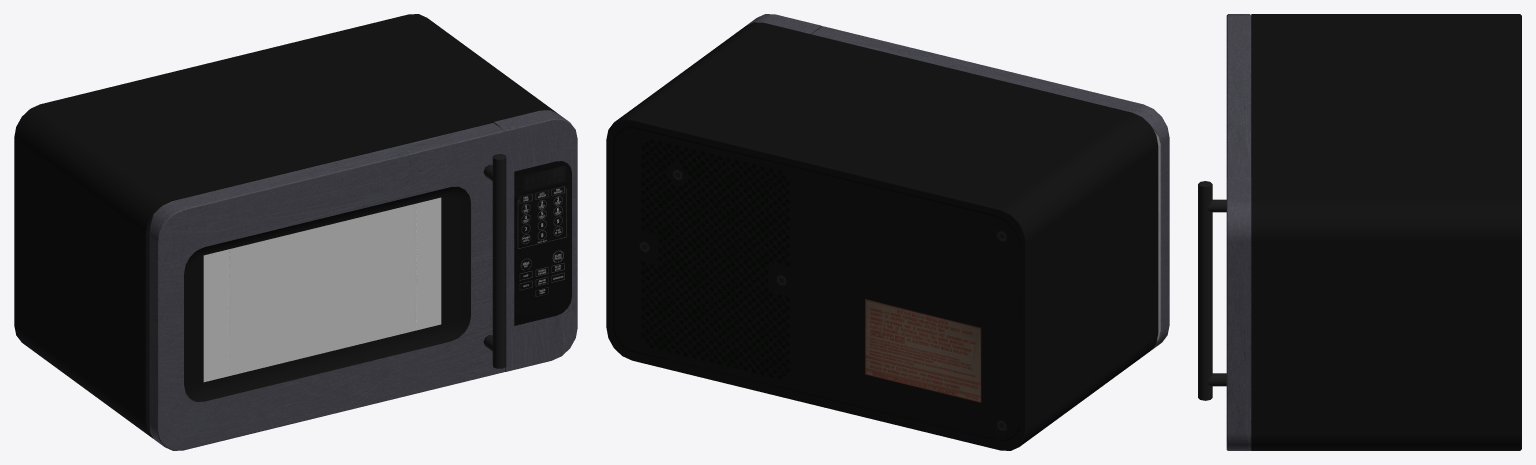
Rendered from microwave_oven.dae.
3 renders of one model, left to right at view 1: azimuth 30°, elevation 25°; view 2: azimuth 150°, elevation 25°; view 3: azimuth 270°, elevation 25°, orthographic. The views are drawn at different scales.
Visible parts, largest first — view 1: polySurface44, polySurface35, polySurface43; view 2: polySurface44, polySurface35; view 3: polySurface44, polySurface35.
Boxes of the visible parts, box(x1,y1,x2,y2) form: polySurface44: box(14, 14, 577, 438); polySurface35: box(149, 123, 506, 450); polySurface43: box(203, 197, 441, 382); polySurface44: box(606, 14, 1158, 450); polySurface35: box(812, 26, 1169, 350); polySurface44: box(1226, 14, 1521, 450); polySurface35: box(1198, 14, 1251, 400).
Size of the model in its own units: 57.37 by 32.17 by 37.39.
